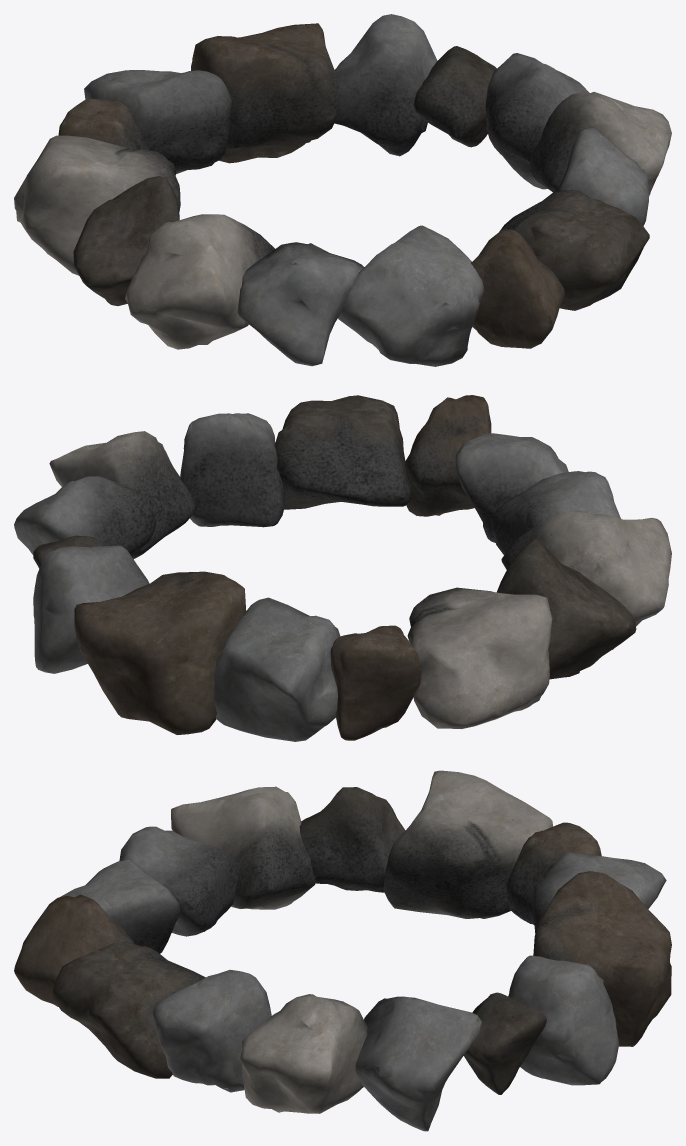
The model's file is firepit.fbx.
The picture shows the model from 3 angles, top to bottom: view 1: azimuth 30°, elevation 25°; view 2: azimuth 150°, elevation 25°; view 3: azimuth 270°, elevation 25°; orthographic projection. The views are drawn at different scales.
Visible parts, largest first — view 1: defaultMaterial; view 2: defaultMaterial; view 3: defaultMaterial.
Boxes of the visible parts, x1,y1,x2,y2 form: defaultMaterial: [14, 14, 671, 366]; defaultMaterial: [14, 395, 671, 741]; defaultMaterial: [14, 770, 671, 1131].
Size of the model in its own units: 200 by 47.37 by 200.
